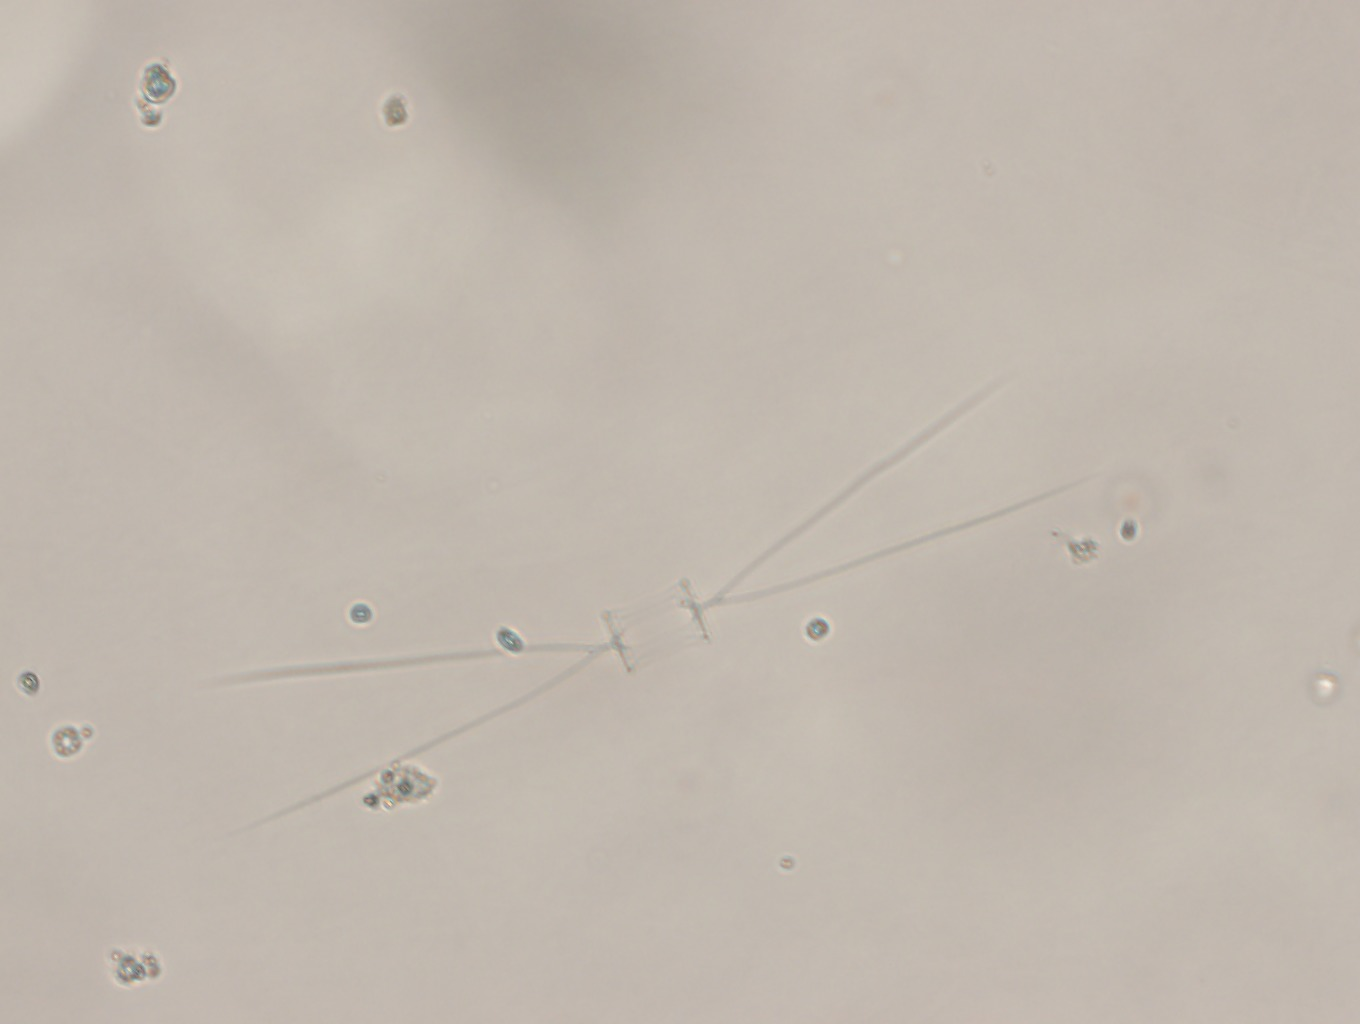chaetoceros: (173, 399, 1072, 833)
